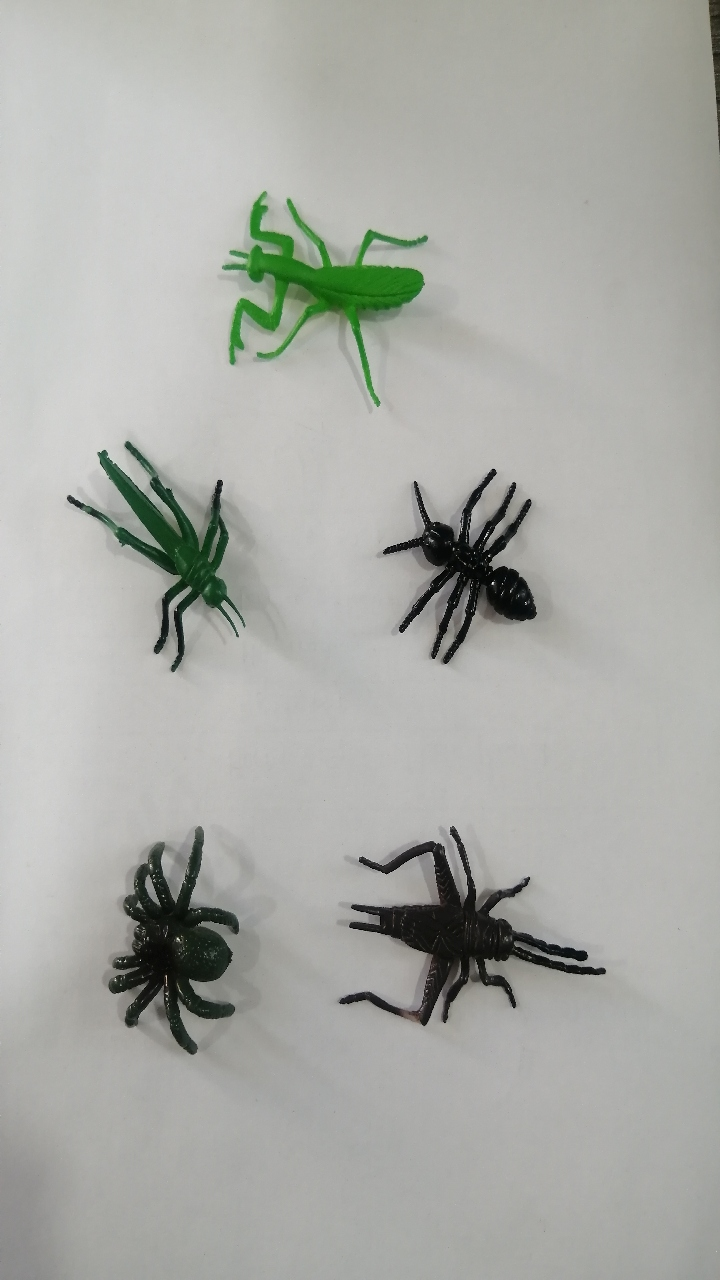intruso: (321, 792, 623, 1071), (195, 166, 461, 437), (49, 400, 275, 668), (63, 795, 277, 1077), (357, 422, 569, 682)
